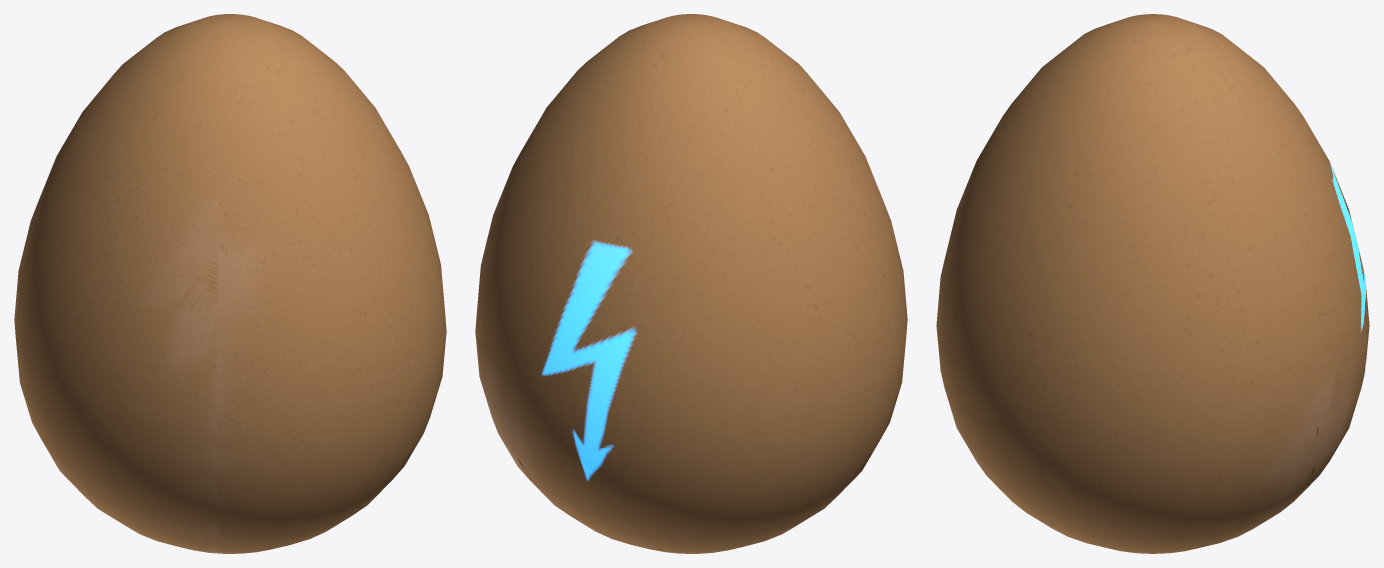
File: SM_CH_ChickenEgg.fbx
3 views of the same model, side by side, from view 1: azimuth 30°, elevation 25°; view 2: azimuth 150°, elevation 25°; view 3: azimuth 270°, elevation 25° (orthographic).
Visible parts, largest first — view 1: SM_CH_ChickenEgg; view 2: SM_CH_ChickenEgg; view 3: SM_CH_ChickenEgg.
Part boxes in pixels (box(x1,y1,x2,y2)): SM_CH_ChickenEgg: box(14, 14, 446, 553); SM_CH_ChickenEgg: box(475, 14, 907, 553); SM_CH_ChickenEgg: box(936, 14, 1369, 553).
Bounding box in the file's own units: 26 × 33.77 × 26.
Materials: 1 (1 with a texture image).
